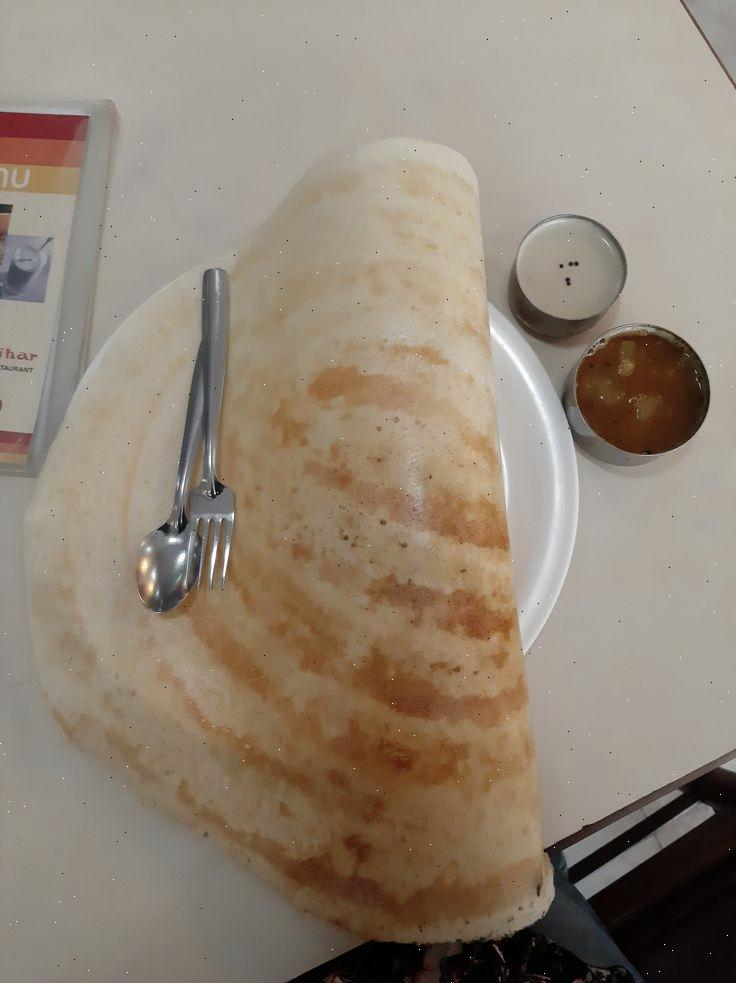dosa: (34, 110, 577, 936)
